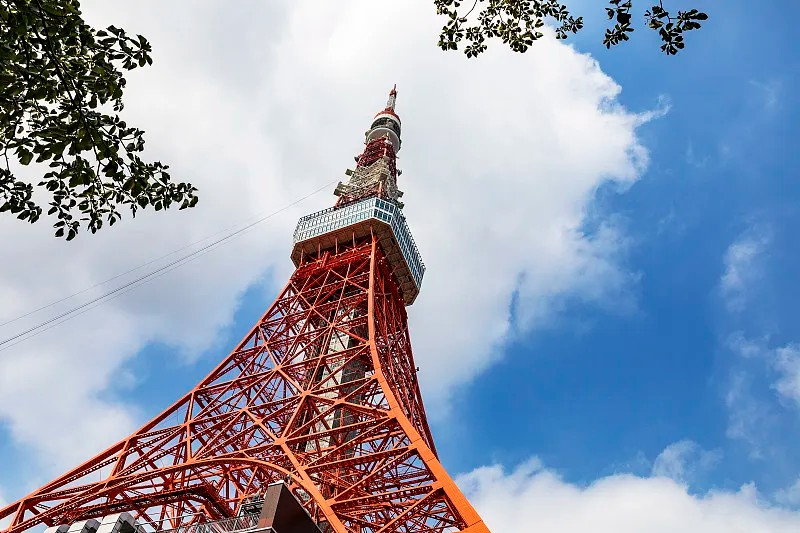Tokyo: (1, 84, 497, 533)
